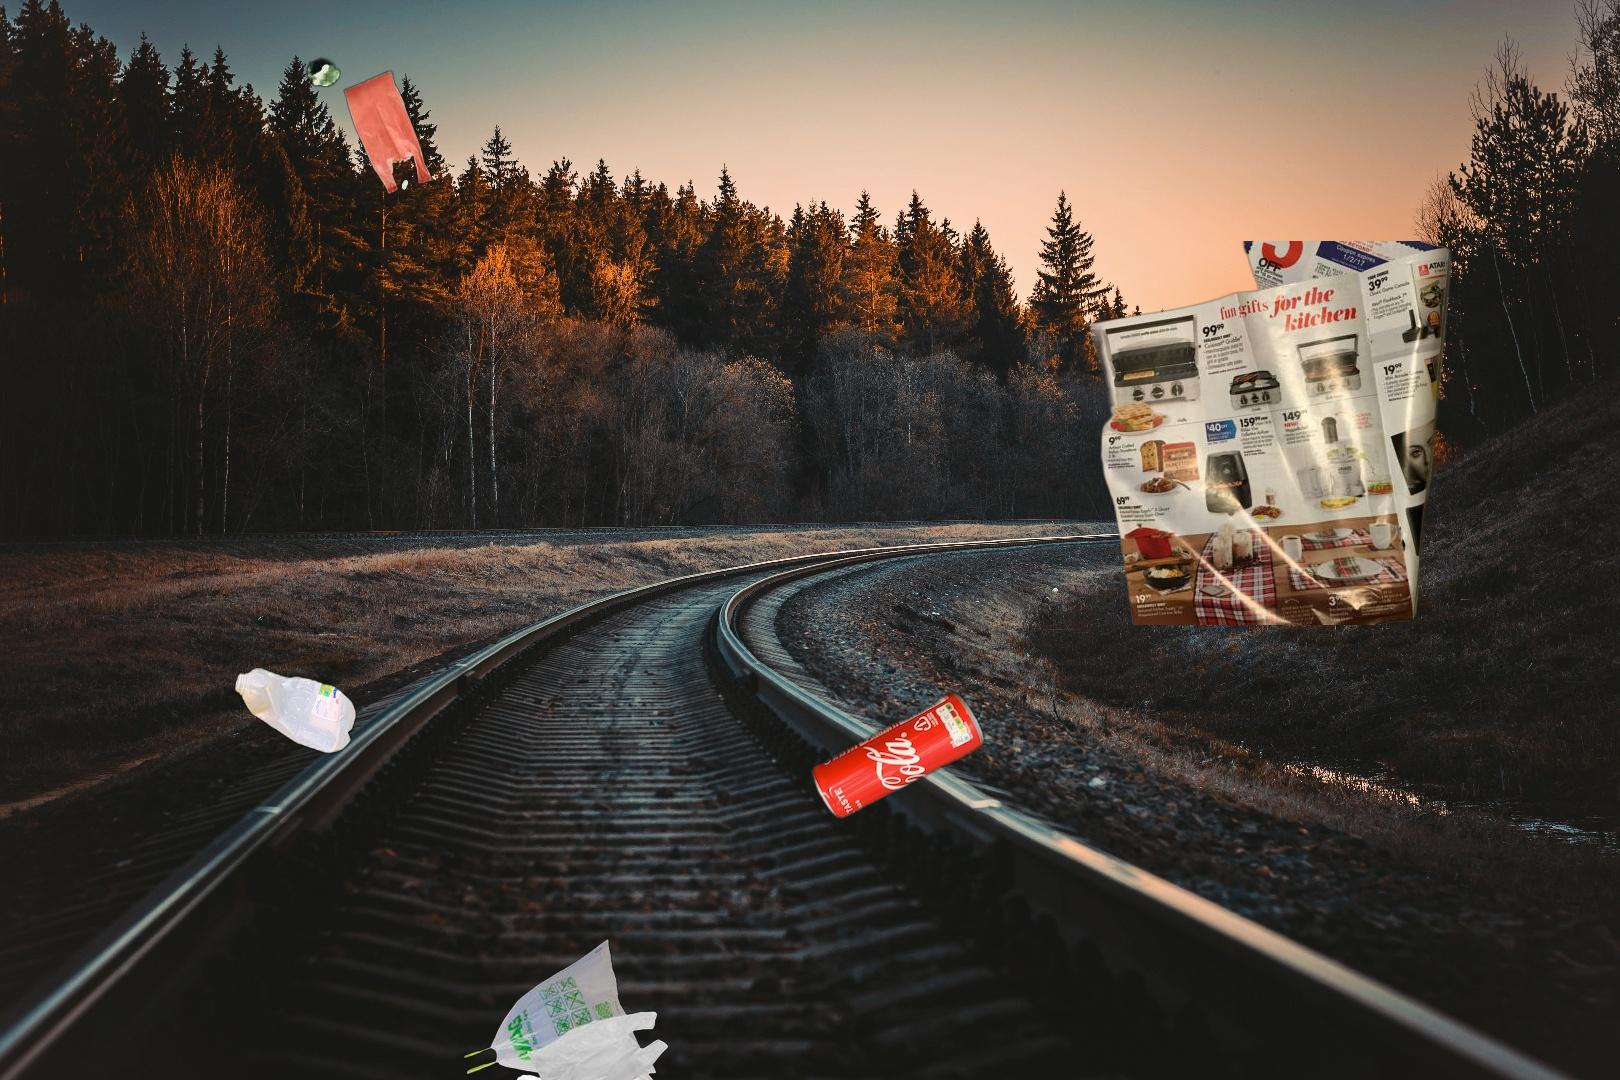metal-cans: (509, 685, 990, 1080)
paper: (1084, 241, 1457, 626)
plastic-bag: (460, 937, 704, 1080), (304, 54, 436, 196)
plastic-bottles: (47, 503, 559, 1080)
